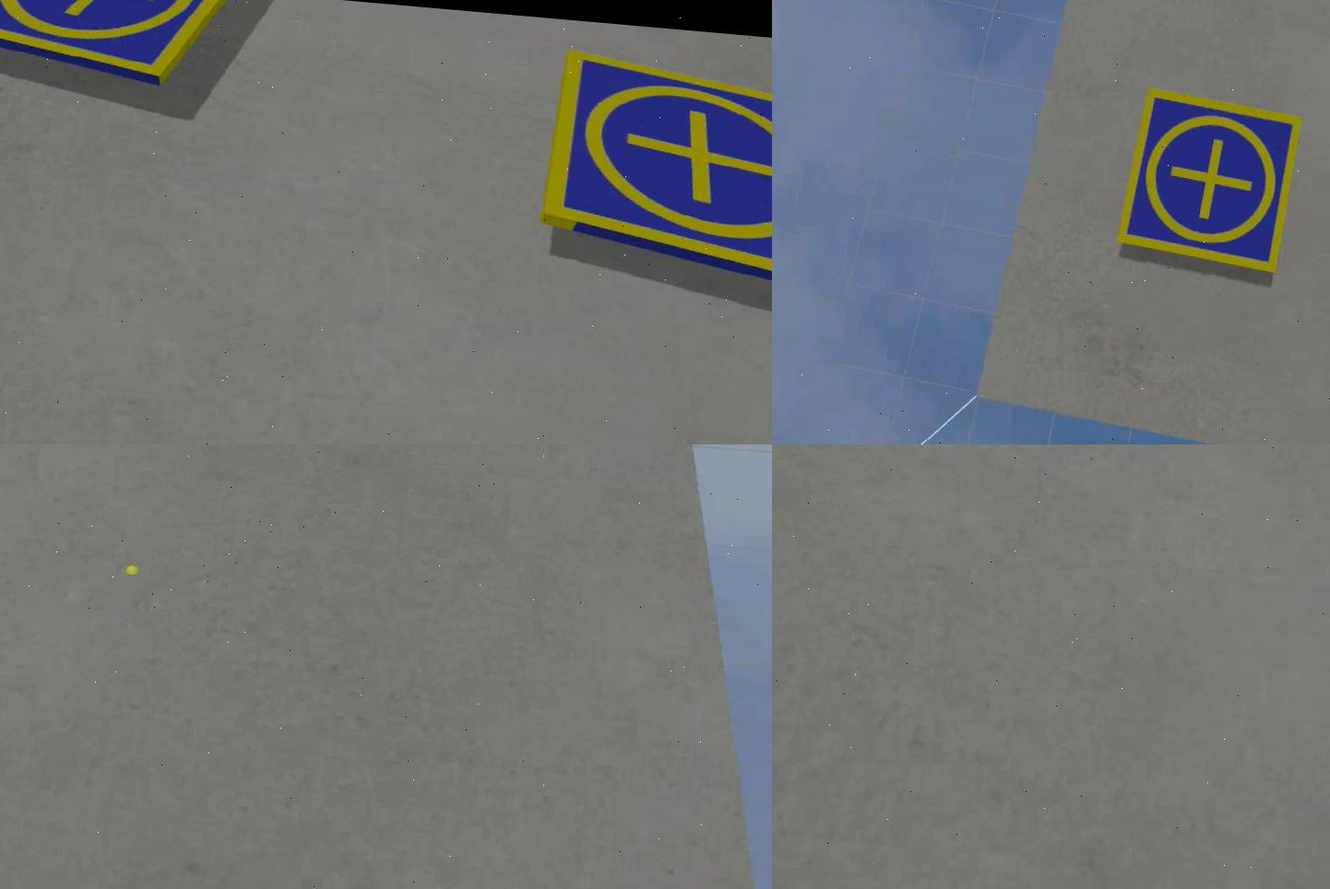small_base: (534, 49, 771, 291), (1111, 86, 1302, 282), (0, 1, 235, 91)
